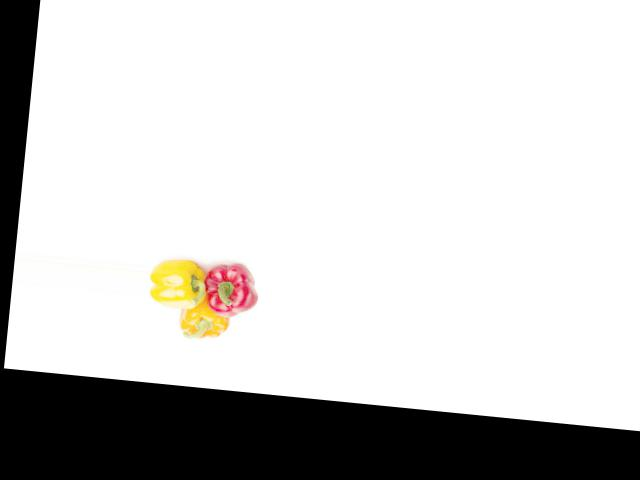bell_pepper: (147, 252, 206, 312)
